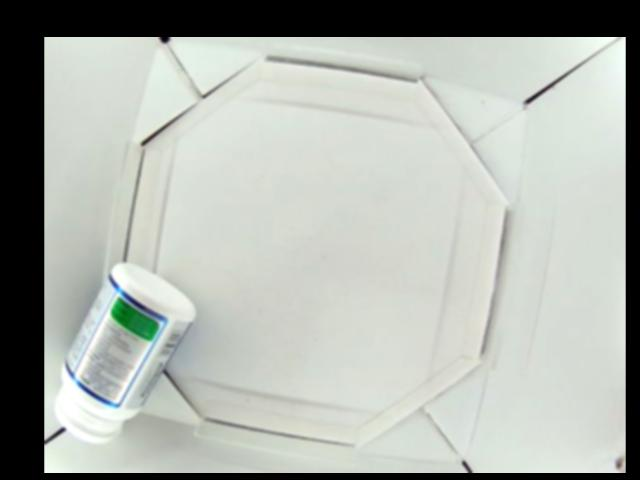Bottle: (48, 256, 196, 442)
